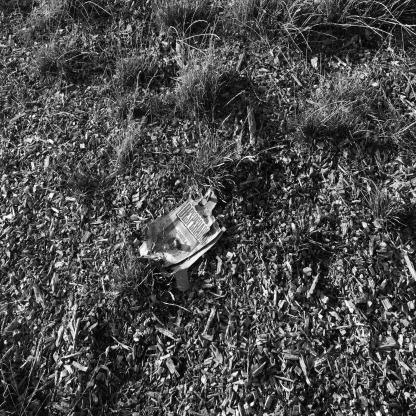cardboard: (134, 191, 234, 294)
